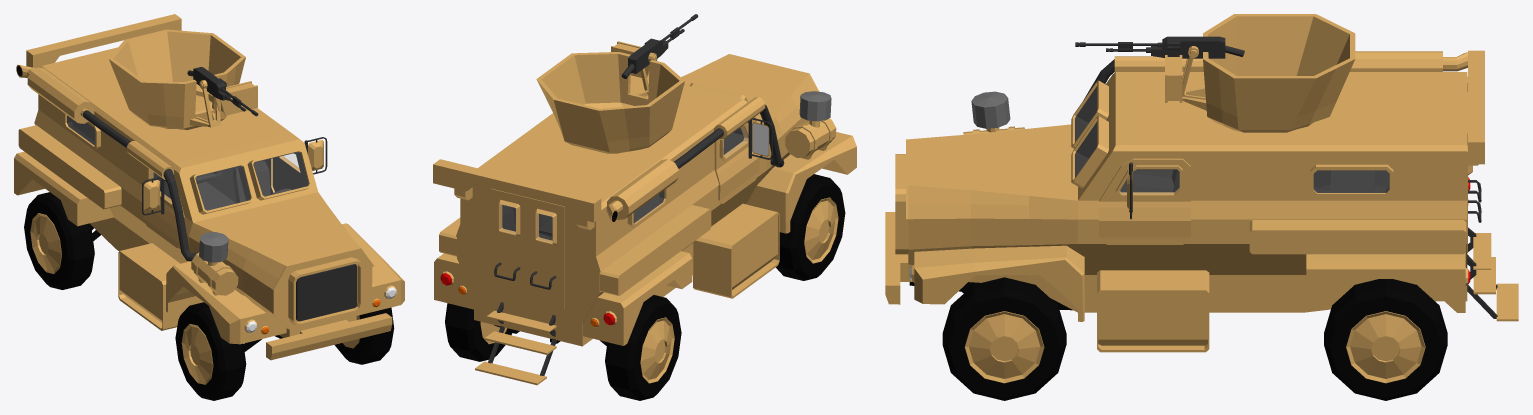
3 renders of one model, left to right at view 1: azimuth 30°, elevation 25°; view 2: azimuth 150°, elevation 25°; view 3: azimuth 270°, elevation 25°, orthographic. The views are drawn at different scales.
Visible parts, largest first — view 1: Plane.014, Cube.008, Cylinder.014, Cylinder.011, Cylinder.012, Plane.016, Plane.020, Plane.015, Cube.009, Plane.019, Cylinder.010; view 2: Plane.014, Cube.008, Cylinder.014, Cylinder.011, Cylinder.012, Plane.017, Plane.018, Plane.015, Cylinder.013, Cube.009, Plane.020; view 3: Plane.014, Cube.008, Cylinder.010, Cylinder.013, Plane.019, Cylinder.014, Plane.020, Cube.009, Plane.016.
Boxes of the visible parts, x1,y1,x2,y2 form: Plane.014: (14, 47, 404, 360); Cube.008: (109, 29, 245, 129); Cylinder.014: (16, 14, 238, 295); Cylinder.011: (24, 192, 94, 289); Cylinder.012: (175, 302, 246, 400); Plane.016: (67, 116, 307, 209); Plane.020: (67, 115, 308, 210); Plane.015: (142, 167, 184, 247); Cube.009: (187, 67, 258, 116); Plane.019: (273, 137, 327, 192); Cylinder.010: (334, 307, 394, 364); Plane.014: (434, 54, 856, 385); Cube.008: (536, 49, 684, 153); Cylinder.014: (433, 91, 836, 229); Cylinder.011: (605, 295, 681, 400); Cylinder.012: (776, 174, 845, 280); Plane.017: (491, 188, 527, 300); Plane.018: (528, 197, 564, 309); Plane.015: (714, 118, 772, 203); Cylinder.013: (445, 303, 512, 361); Cube.009: (611, 14, 698, 78); Plane.020: (502, 127, 744, 240); Plane.014: (885, 72, 1518, 352); Cube.008: (1182, 14, 1355, 132); Cylinder.010: (942, 277, 1066, 400); Cylinder.013: (1324, 279, 1447, 400); Plane.019: (1099, 158, 1190, 244); Cylinder.014: (963, 50, 1484, 165); Plane.020: (1075, 86, 1389, 192); Cube.009: (1075, 36, 1244, 102); Plane.016: (1075, 87, 1388, 192).
Bounding box in the file's own units: 253 × 323 × 597.
